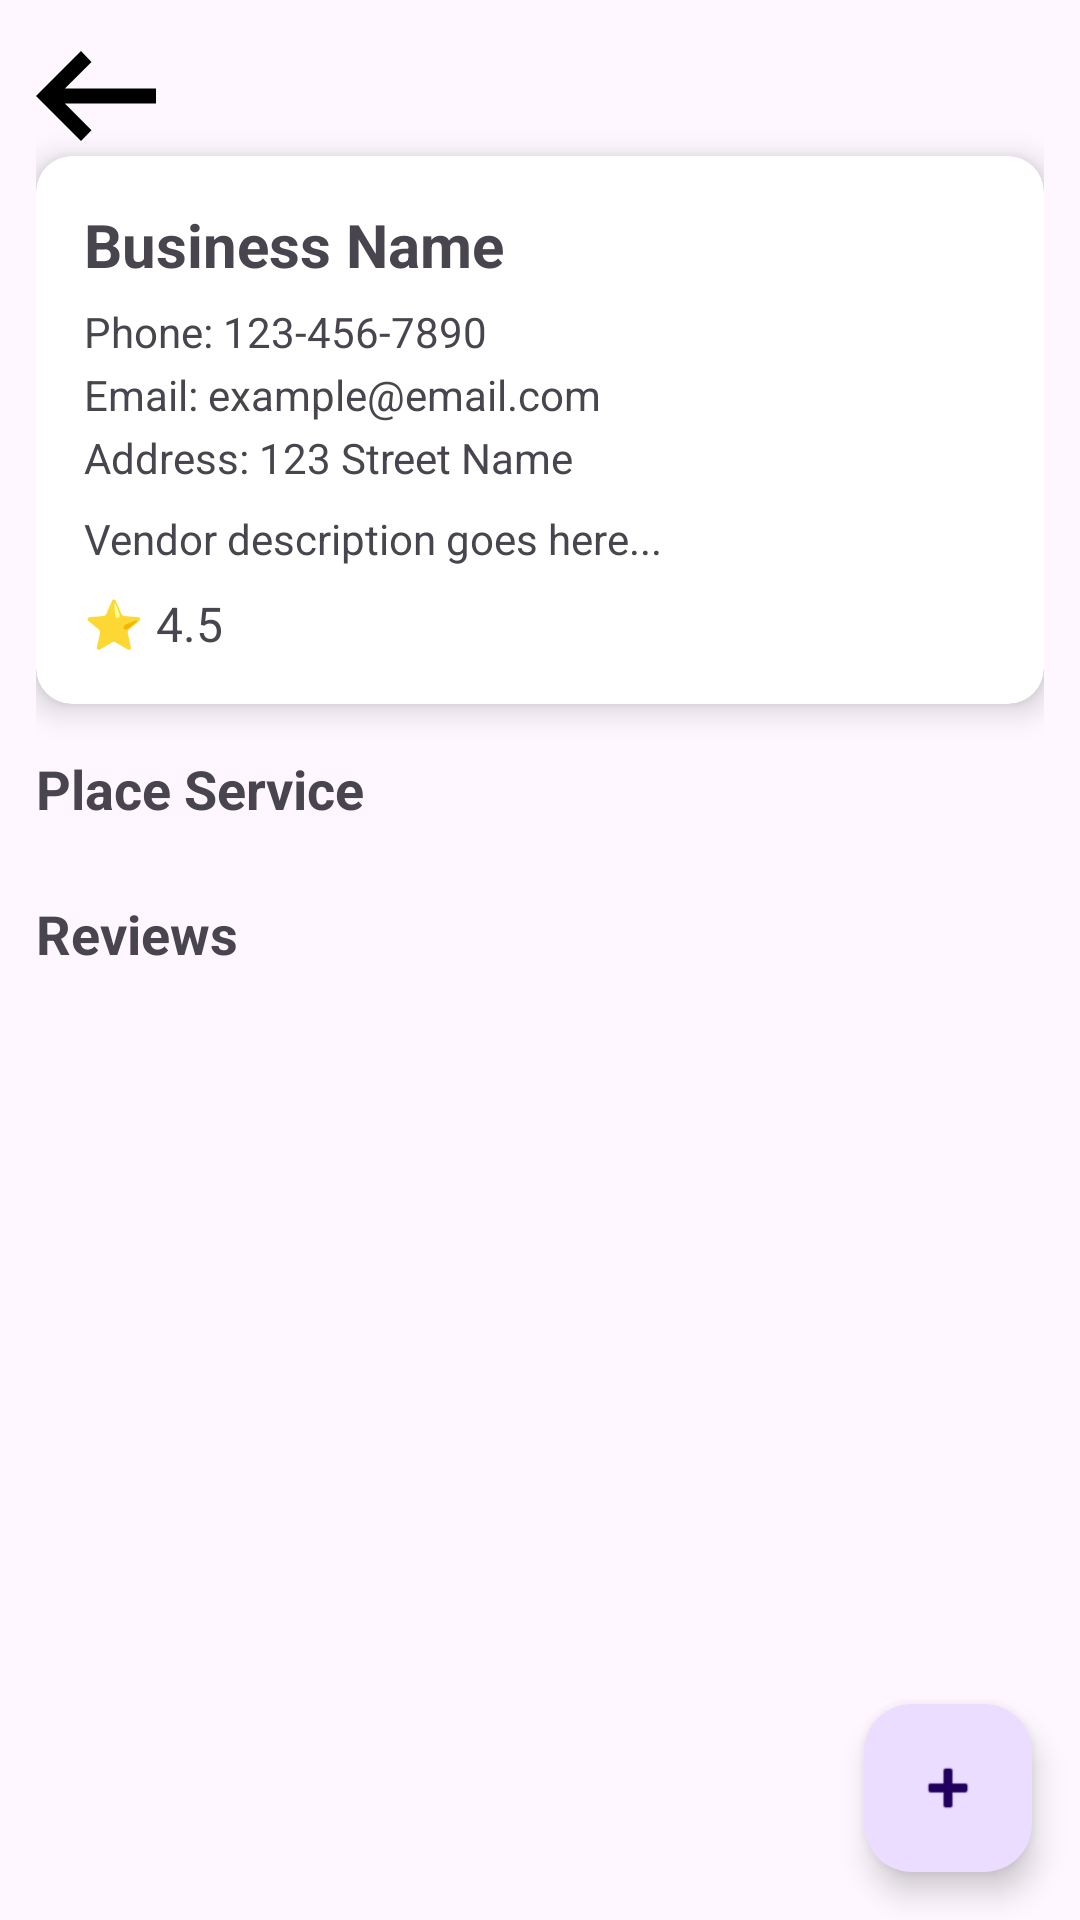

Point at icon controls on the screen. Image size 1080px x 1920px, points as [x,y].
Add Review: [948,1788]
Back: [96,96]
